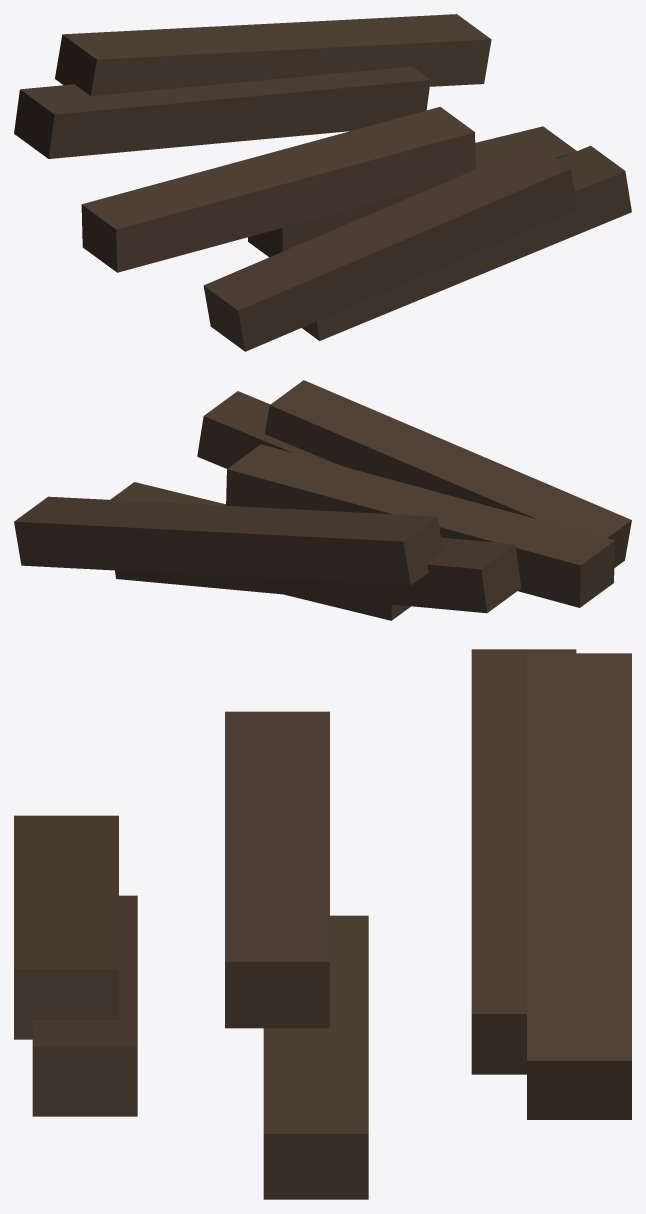
File: debris.glb
3 renders of one model, top to bottom at view 1: azimuth 30°, elevation 25°; view 2: azimuth 150°, elevation 25°; view 3: azimuth 270°, elevation 25°, orthographic. The views are drawn at different scales.
Visible parts, largest first — view 1: debris; view 2: debris; view 3: debris.
Part boxes in pixels (left/top/right/bottom): debris: left=14, top=14, right=631, bottom=351; debris: left=14, top=380, right=631, bottom=620; debris: left=14, top=649, right=631, bottom=1199.
Size of the model in its own units: 0.5149 by 0.1831 by 0.3826.
